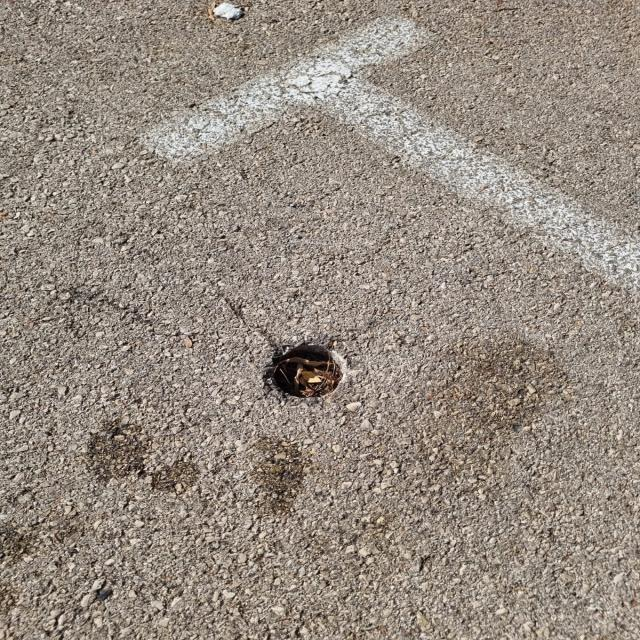medium_pothole: (264, 340, 352, 399)
